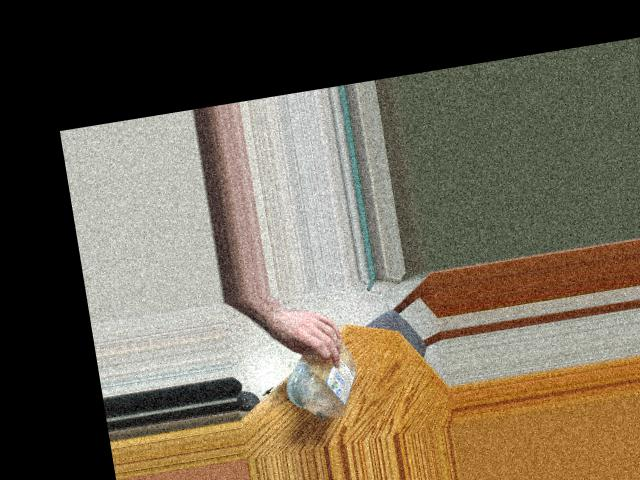cheese: (279, 322, 368, 426)
